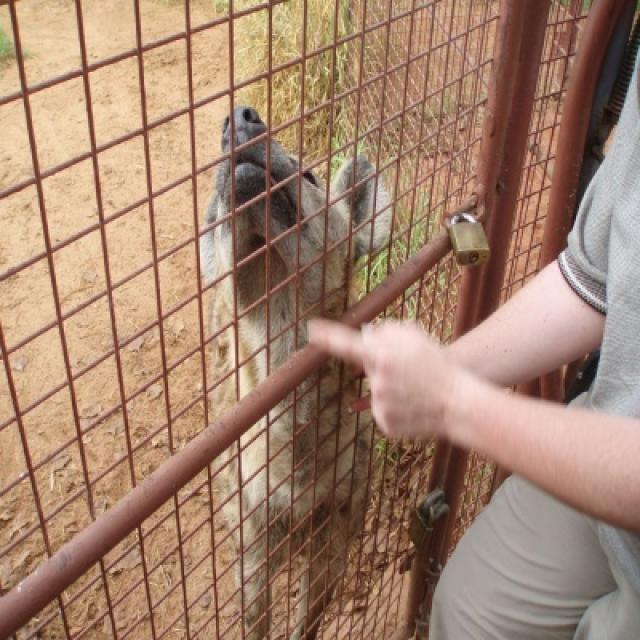hyena: (194, 50, 390, 427), (206, 378, 317, 546)
